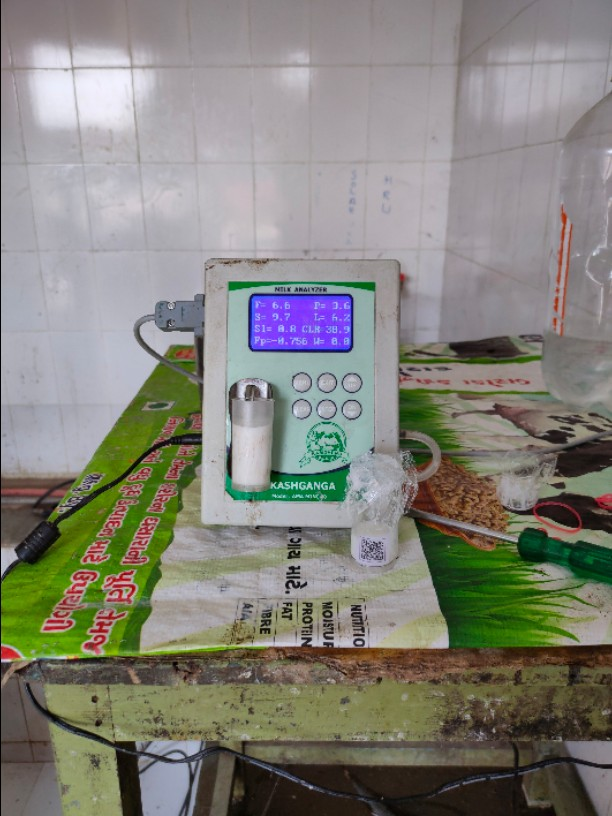lcd: (240, 293, 373, 363)
qr: (353, 531, 391, 561)
